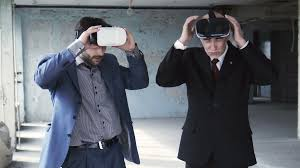oculus: (88, 25, 129, 48), (195, 17, 232, 39)
